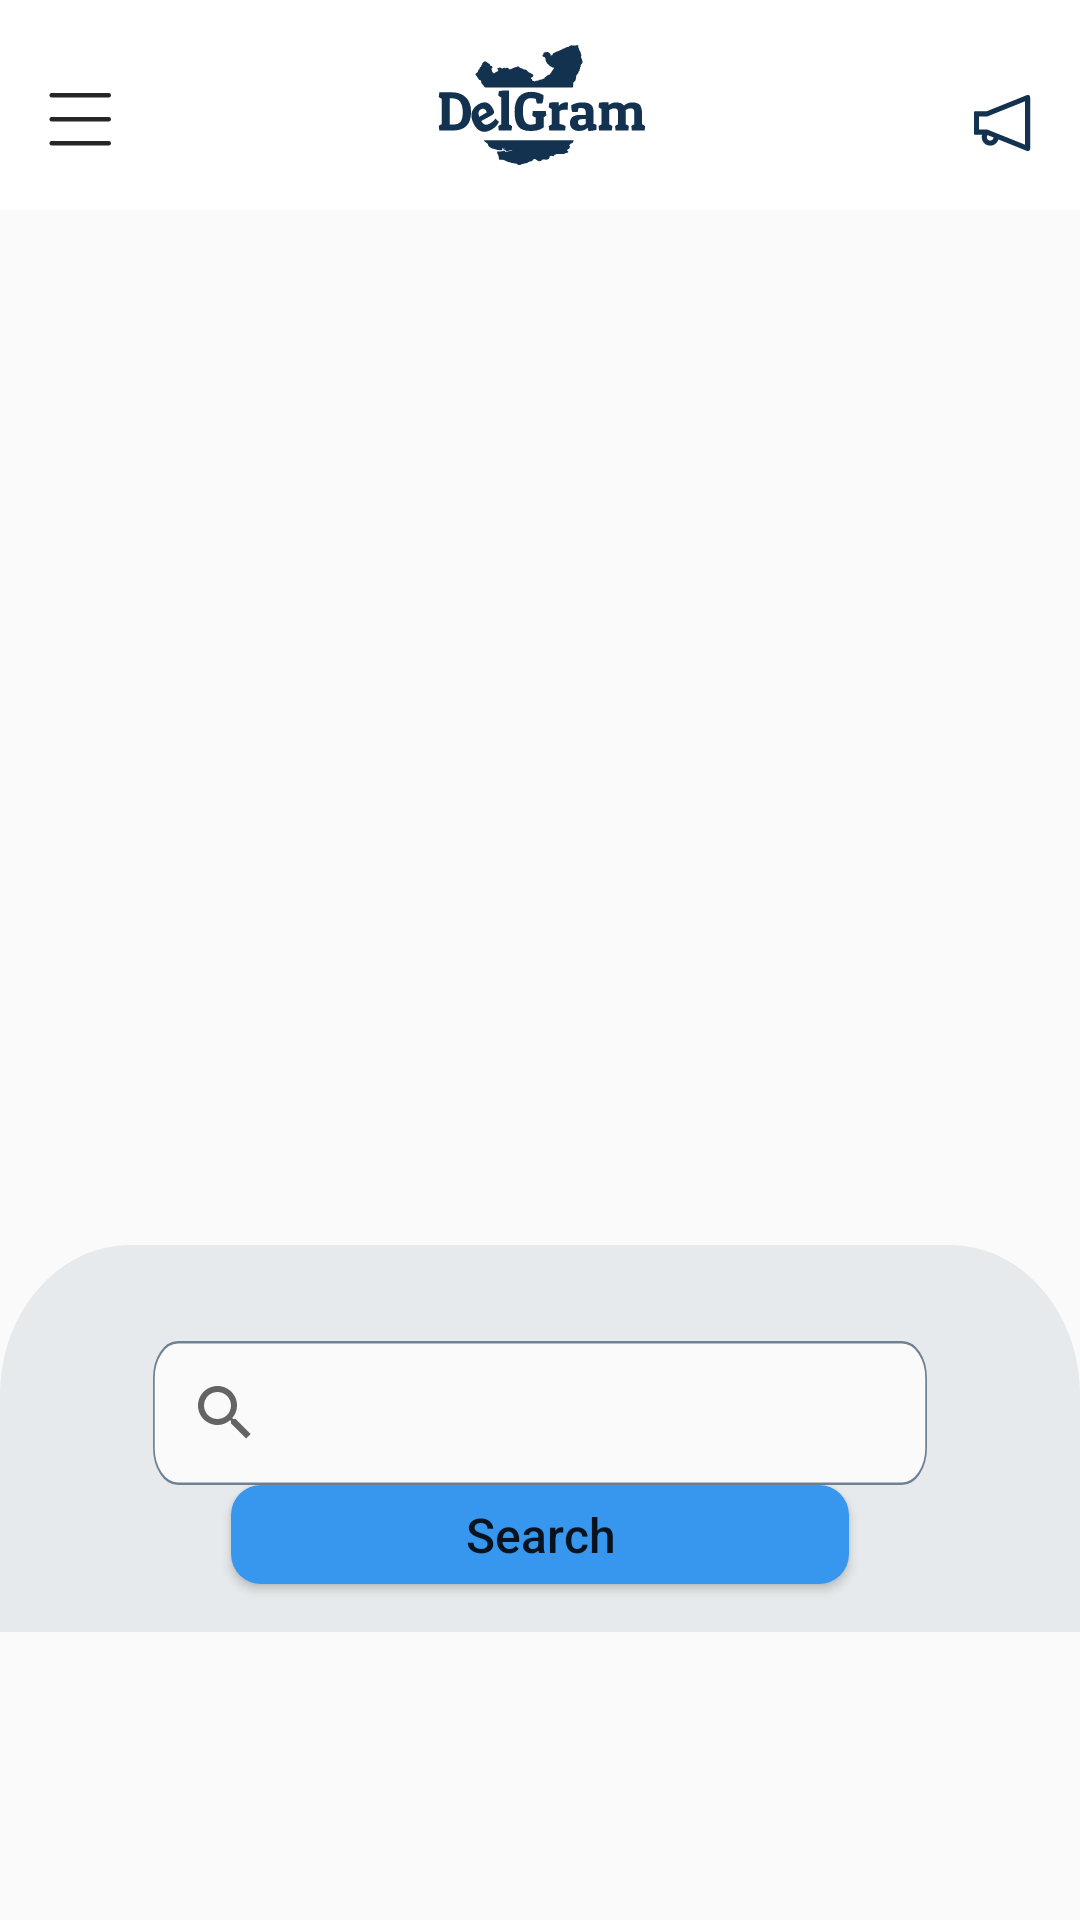

Point at icon controls on the screen. Image size 1080x1920, points as (x=x, y=y).
notification: (x=1002, y=123)
options: (x=80, y=119)
